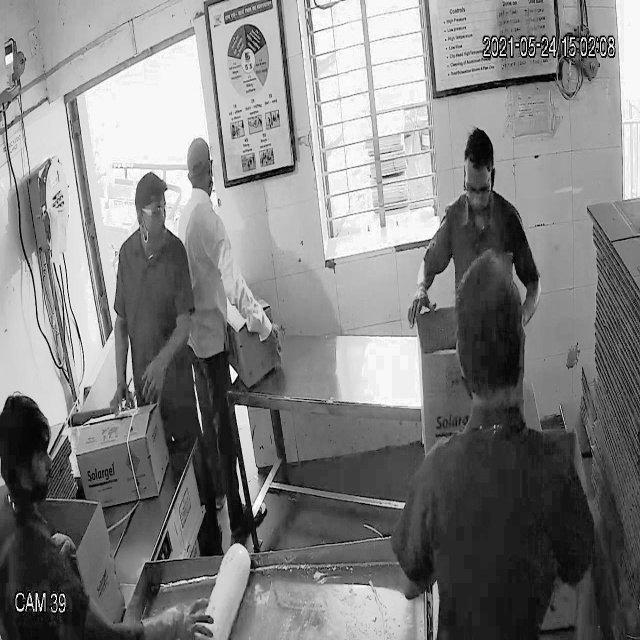Gafas: (460, 172, 497, 207), (133, 200, 169, 226)
